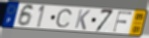1: (36, 5, 47, 29)
6: (16, 4, 36, 29)
7: (94, 8, 115, 33)
C: (54, 9, 73, 29)
F: (112, 11, 134, 33)
K: (73, 8, 91, 31)
